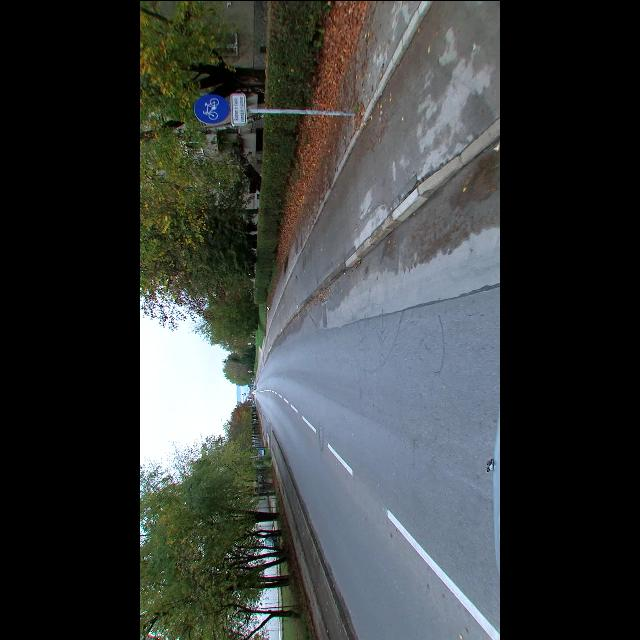Rectangle: (232, 92, 246, 124)
Round: (193, 93, 229, 123)
